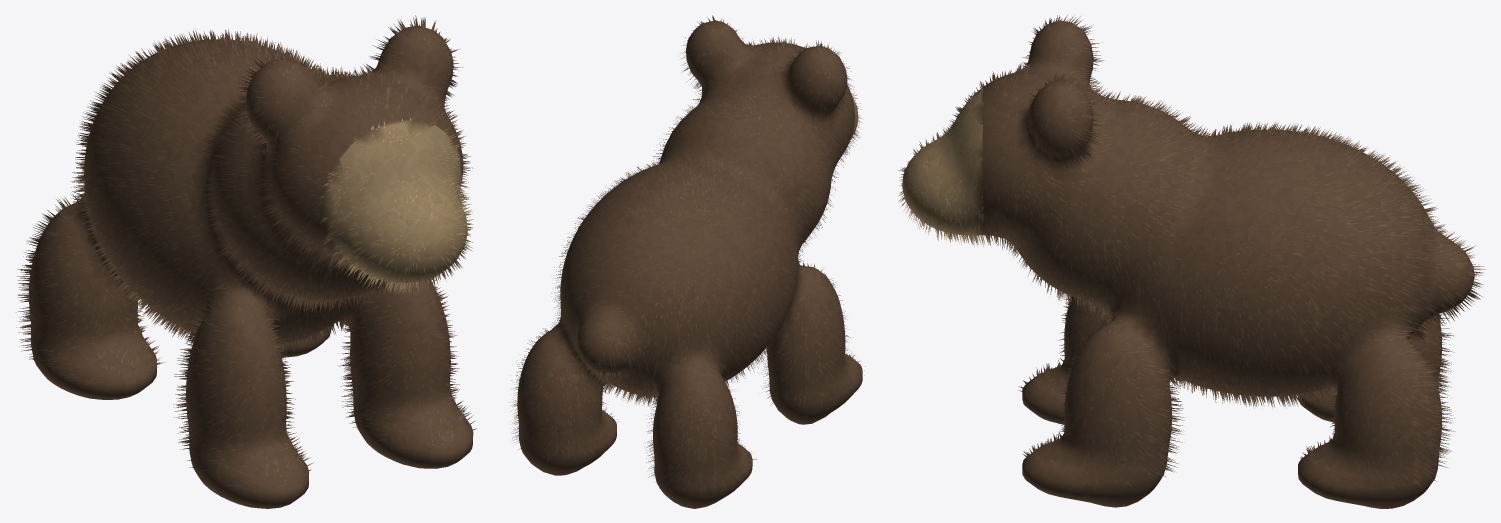
The model's file is bear.glb.
3 views of the same model, side by side, from view 1: azimuth 30°, elevation 25°; view 2: azimuth 150°, elevation 25°; view 3: azimuth 270°, elevation 25° (orthographic). The views are drawn at different scales.
Size of the model in its own units: 1.13 by 1.73 by 2.18.
